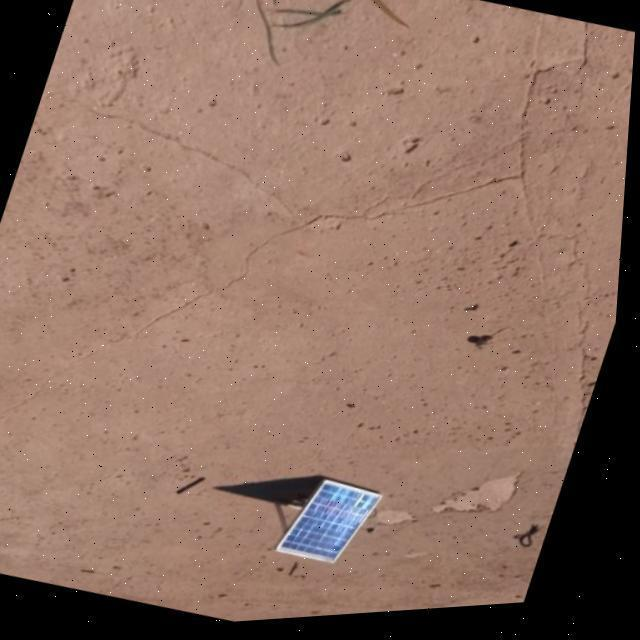Normal Solar Panel: (282, 474, 392, 578)
